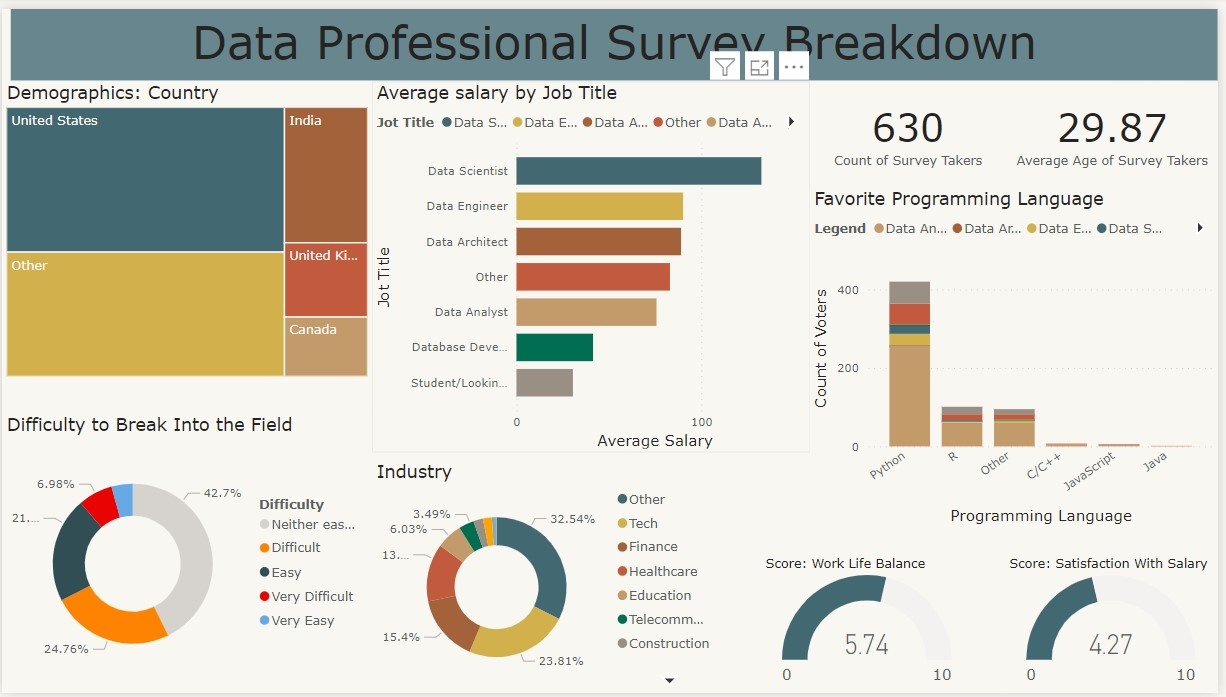

The page's visual inventory and layout, read from the dashboard file:
{"tool":"powerbi","page":{"name":"Page 1","canvas":[1280,720],"ordinal":0},"visuals":[{"type":"textbox","box":[9.6,0,1270.7,75.5],"z":0},{"type":"card","fields":{"Values":["Count(Data Professional Survey.Unique ID)"]},"box":[851,75.9,205.3,112],"z":1000},{"type":"card","fields":{"Values":["Avg(Data Professional Survey.Q10 - Current Age)"]},"box":[1056.3,75.9,224,112],"z":2000},{"type":"barChart","title":"Average salary by Job Title","fields":{"Category":["Data Professional Survey.Q1 - Which Title Best Fits your Current Role?.1"],"Y":["Avg(Data Professional Survey.Average Salary)"],"Series":["Data Professional Survey.Q1 - Which Title Best Fits your Current Role?.1"]},"box":[389.6,75.8,461,391.1],"z":3000},{"type":"columnChart","title":"Favorite Programming Language","fields":{"Category":["Data Professional Survey.Q5 - Favorite Programming Language.1"],"Y":["CountNonNull(Data Professional Survey.Unique ID)"],"Series":["Data Professional Survey.Q1 - Which Title Best Fits your Current Role?.1"]},"box":[849.8,187.9,430.5,359.6],"z":4000},{"type":"treemap","title":"Demographics: Country","fields":{"Group":["Data Professional Survey.Q11 - Which Country do you live in?.1"],"Values":["CountNonNull(Data Professional Survey.Q11 - Which Country do you live in?.1)"]},"box":[0,75.8,389.6,315.2],"z":5000},{"type":"gauge","title":"Score: Work Life Balance","fields":{"Y":["Avg(Data Professional Survey.Q6 - How Happy are you in your Current Position with the following? (Work/Life Balance))"],"MinValue":["Min(Data Professional Survey.Q6 - How Happy are you in your Current Position with the following? (Work/Life Balance))1"],"MaxValue":["Max(Data Professional Survey.Q6 - How Happy are you in your Current Position with the following? (Work/Life Balance))2"]},"box":[798.5,575.5,223,144.2],"z":6000},{"type":"gauge","title":"Score: Satisfaction With Salary","fields":{"Y":["Avg(Data Professional Survey.Q6 - How Happy are you in your Current Position with the following? (Salary))"],"MinValue":["Min(Data Professional Survey.Q6 - How Happy are you in your Current Position with the following? (Salary))"],"MaxValue":["Max(Data Professional Survey.Q6 - How Happy are you in your Current Position with the following? (Salary))1"]},"box":[1055.8,575.5,224.5,144.2],"z":7000},{"type":"donutChart","title":"Difficulty to Break Into the Field","fields":{"Category":["Data Professional Survey.Q7 - How difficult was it for you to break into Data?"],"Y":["CountNonNull(Data Professional Survey.Q7 - How difficult was it for you to break into Data?)"]},"box":[0,426.8,389.6,292.9],"z":8000},{"type":"donutChart","title":"Industry","fields":{"Category":["Data Professional Survey.Q4 - What Industry do you work in?.1"],"Y":["CountNonNull(Data Professional Survey.Q4 - What Industry do you work in?.1)"]},"box":[389.5,475.2,371.5,244.8],"z":9000}]}

Visuals, with their boxes in screenshot pixels (x1, y1, x2, y2), scaled from the page's 1280x720 canvas onto the 1226x697 screenshot:
textbox: <bbox>9, 0, 1225, 73</bbox>
card - Count(Data Professional Survey.Unique ID): <bbox>815, 73, 1012, 182</bbox>
card - Avg(Data Professional Survey.Q10 - Current Age): <bbox>1012, 73, 1225, 182</bbox>
"Average salary by Job Title" barChart: <bbox>373, 73, 815, 452</bbox>
"Favorite Programming Language" columnChart: <bbox>814, 182, 1225, 530</bbox>
"Demographics: Country" treemap: <bbox>0, 73, 373, 379</bbox>
"Score: Work Life Balance" gauge: <bbox>765, 557, 978, 696</bbox>
"Score: Satisfaction With Salary" gauge: <bbox>1011, 557, 1225, 696</bbox>
"Difficulty to Break Into the Field" donutChart: <bbox>0, 413, 373, 696</bbox>
"Industry" donutChart: <bbox>373, 460, 729, 696</bbox>
